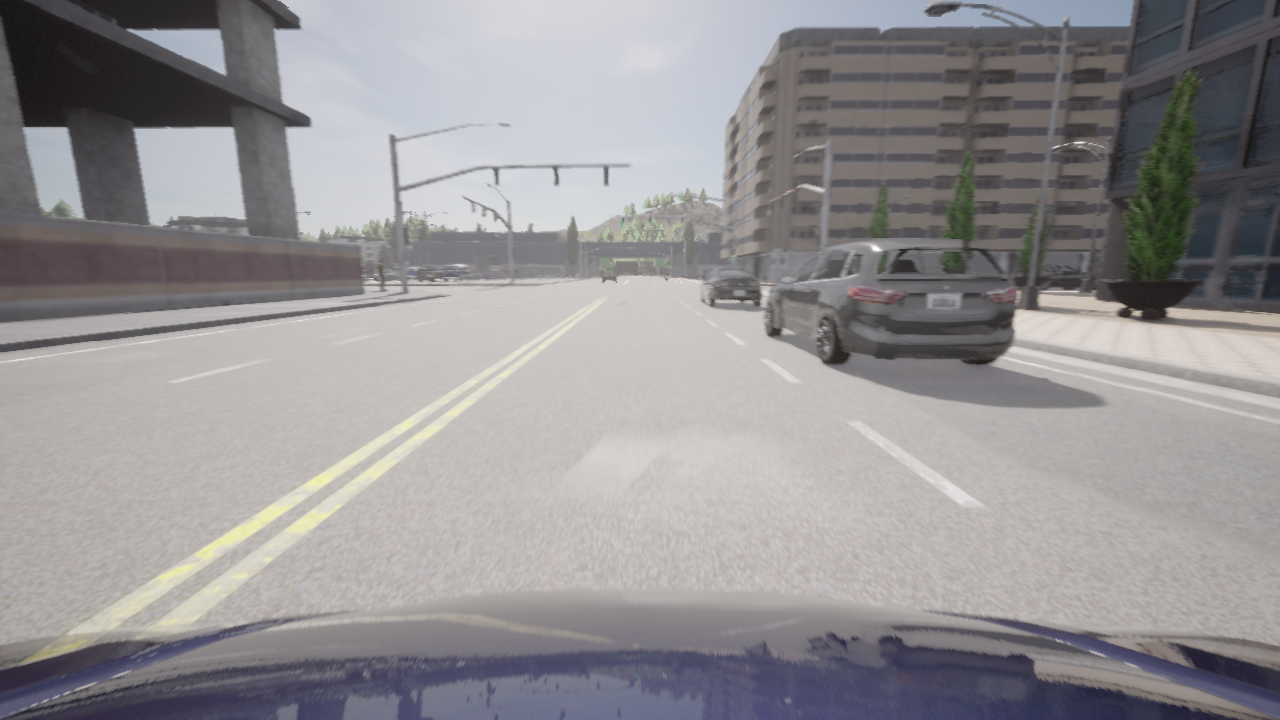cyclist: (0, 588, 1279, 719), (763, 239, 1016, 365), (700, 267, 761, 307), (1010, 266, 1097, 289), (416, 266, 445, 281), (443, 265, 470, 281), (374, 270, 400, 280), (485, 269, 505, 280), (601, 271, 617, 283), (407, 267, 420, 279), (524, 269, 538, 278), (363, 270, 374, 280), (513, 269, 522, 278), (470, 271, 480, 279), (363, 268, 377, 273), (663, 273, 668, 282), (392, 268, 399, 273)
pedestrian: (377, 258, 386, 290)
